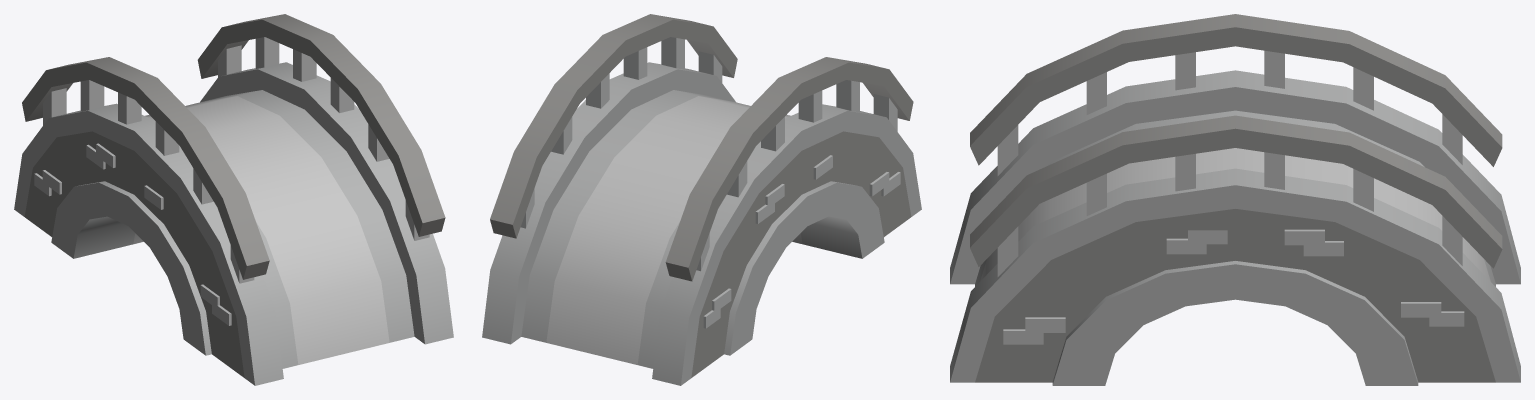
The model's file is bridge.fbx.
The picture shows the model from 3 angles, left to right: view 1: azimuth 30°, elevation 25°; view 2: azimuth 150°, elevation 25°; view 3: azimuth 270°, elevation 25°; orthographic projection. The views are drawn at different scales.
Visible parts, largest first — view 1: bridge; view 2: bridge; view 3: bridge.
Boxes of the visible parts, bbox=[...] form: bridge: bbox=[14, 14, 453, 385]; bridge: bbox=[482, 14, 921, 385]; bridge: bbox=[950, 14, 1520, 385].
Bounding box in the file's own units: 276 × 268 × 547.
